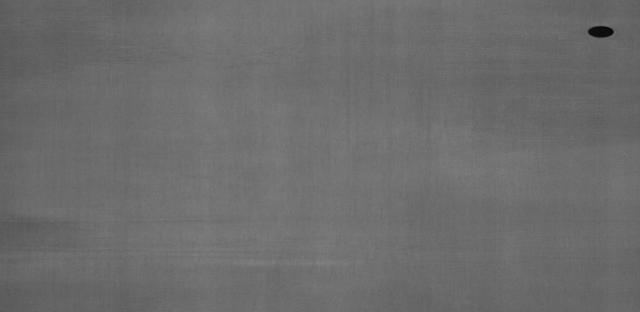punching_hole: (584, 22, 620, 43)
